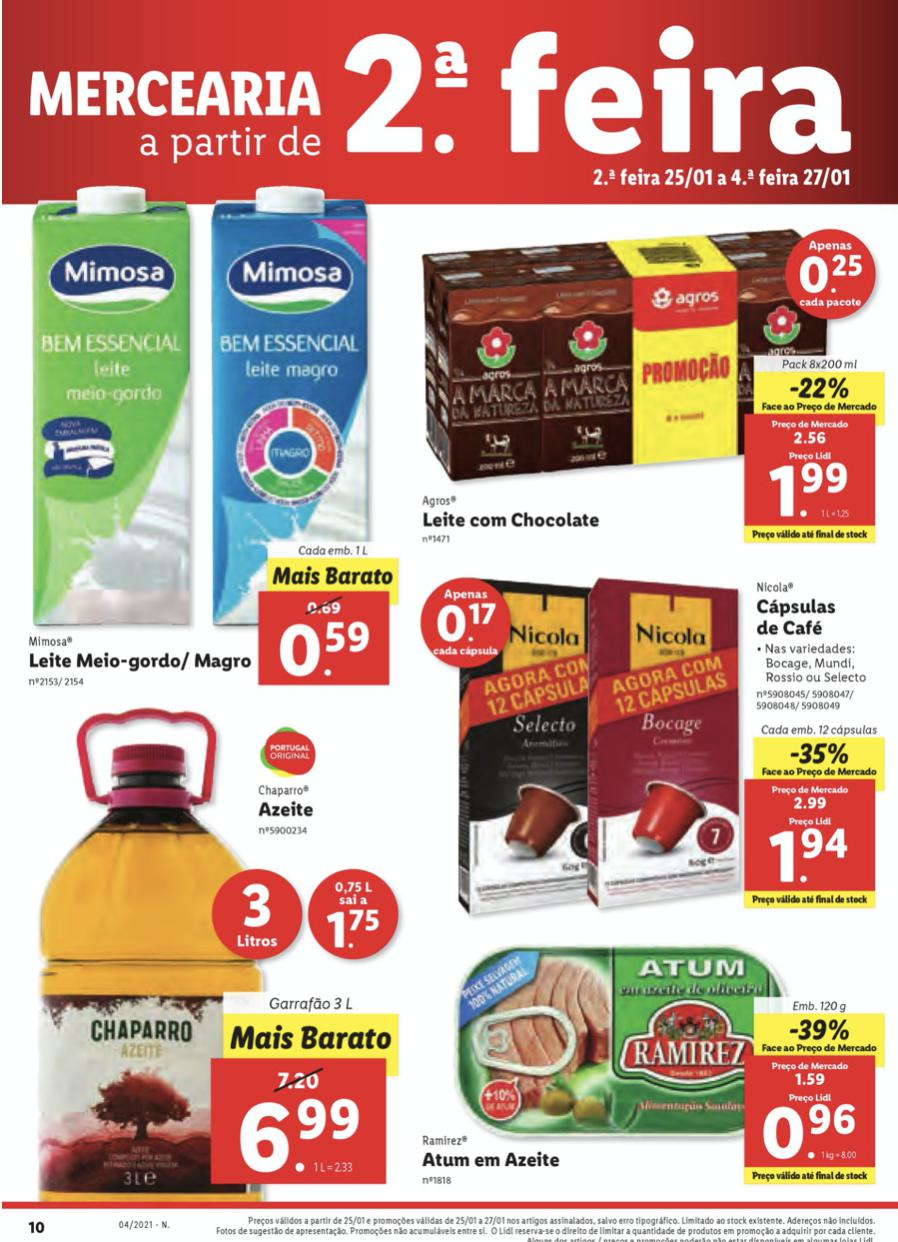name: (21, 646, 253, 677), (418, 506, 607, 536), (753, 597, 840, 640), (415, 1148, 566, 1172), (253, 799, 317, 823)
price: (212, 1088, 392, 1186), (746, 1088, 877, 1168), (749, 442, 873, 525), (272, 606, 392, 689), (753, 811, 873, 889)
product: (15, 700, 409, 1206), (15, 169, 395, 688), (407, 571, 883, 925), (417, 222, 890, 554), (415, 928, 890, 1199)
promotion: (784, 737, 850, 769), (784, 1016, 850, 1043), (784, 377, 853, 402)
